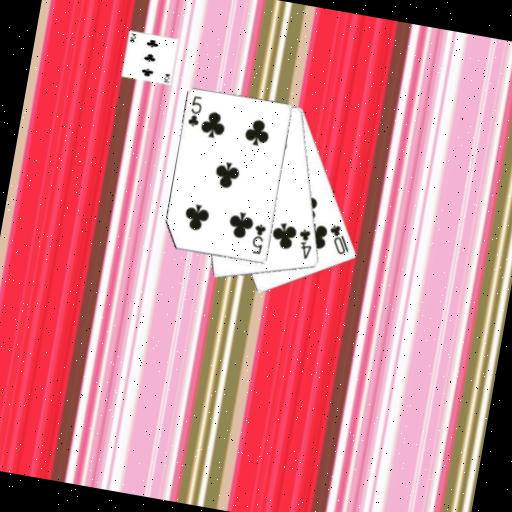10C: (323, 220, 355, 257)
4C: (292, 224, 316, 261)
5C: (184, 92, 205, 129), (247, 220, 268, 256)
